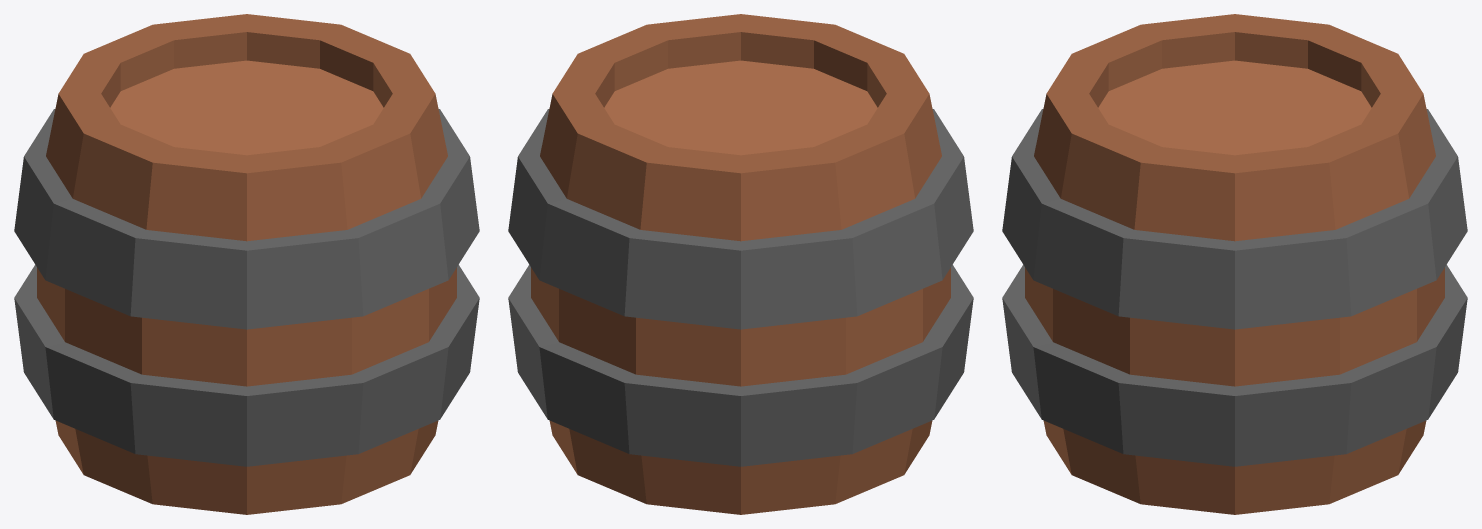
File: barrel_1.glb
3 renders of one model, left to right at view 1: azimuth 30°, elevation 25°; view 2: azimuth 150°, elevation 25°; view 3: azimuth 270°, elevation 25°, orthographic.
Parts seen in each view (by area): view 1: barrel_1; view 2: barrel_1; view 3: barrel_1.
Boxes of the visible parts, bbox=[...] form: barrel_1: bbox=[14, 14, 479, 514]; barrel_1: bbox=[508, 14, 973, 514]; barrel_1: bbox=[1002, 14, 1467, 514].
Bounding box in the file's own units: 0.4007 × 0.3245 × 0.4007.
Materials: 1 (1 with a texture image).
